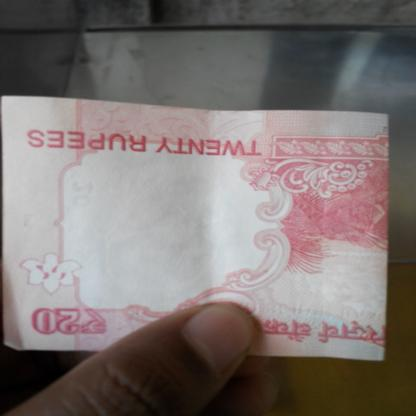Old20Back: (0, 98, 393, 357)
